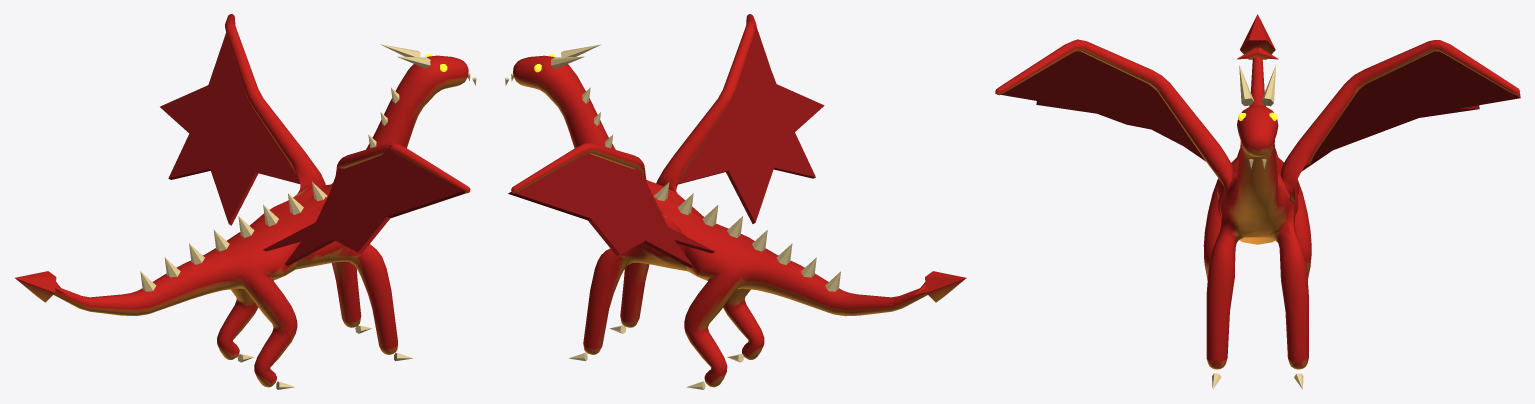
The model's file is red-dragon.glb.
The picture shows the model from 3 angles, left to right: view 1: azimuth 30°, elevation 25°; view 2: azimuth 150°, elevation 25°; view 3: azimuth 270°, elevation 25°; orthographic projection. The views are drawn at different scales.
Visible parts, largest first — view 1: red-dragon.001; view 2: red-dragon.001; view 3: red-dragon.001.
Boxes of the visible parts, left/top/right/bottom form: red-dragon.001: left=15, top=14, right=476, bottom=389; red-dragon.001: left=505, top=14, right=966, bottom=389; red-dragon.001: left=995, top=14, right=1520, bottom=389.
Size of the model in its own units: 3.54 by 2.17 by 3.2.
